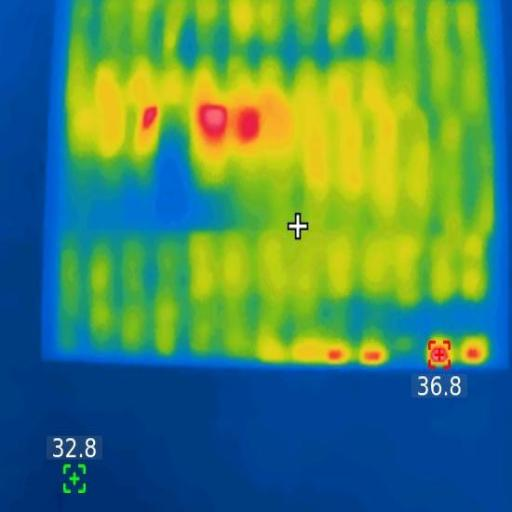hotspot: (200, 106, 232, 145), (234, 108, 262, 140), (144, 101, 163, 136), (430, 340, 455, 366), (466, 346, 486, 358), (366, 349, 382, 362), (329, 349, 346, 361)
